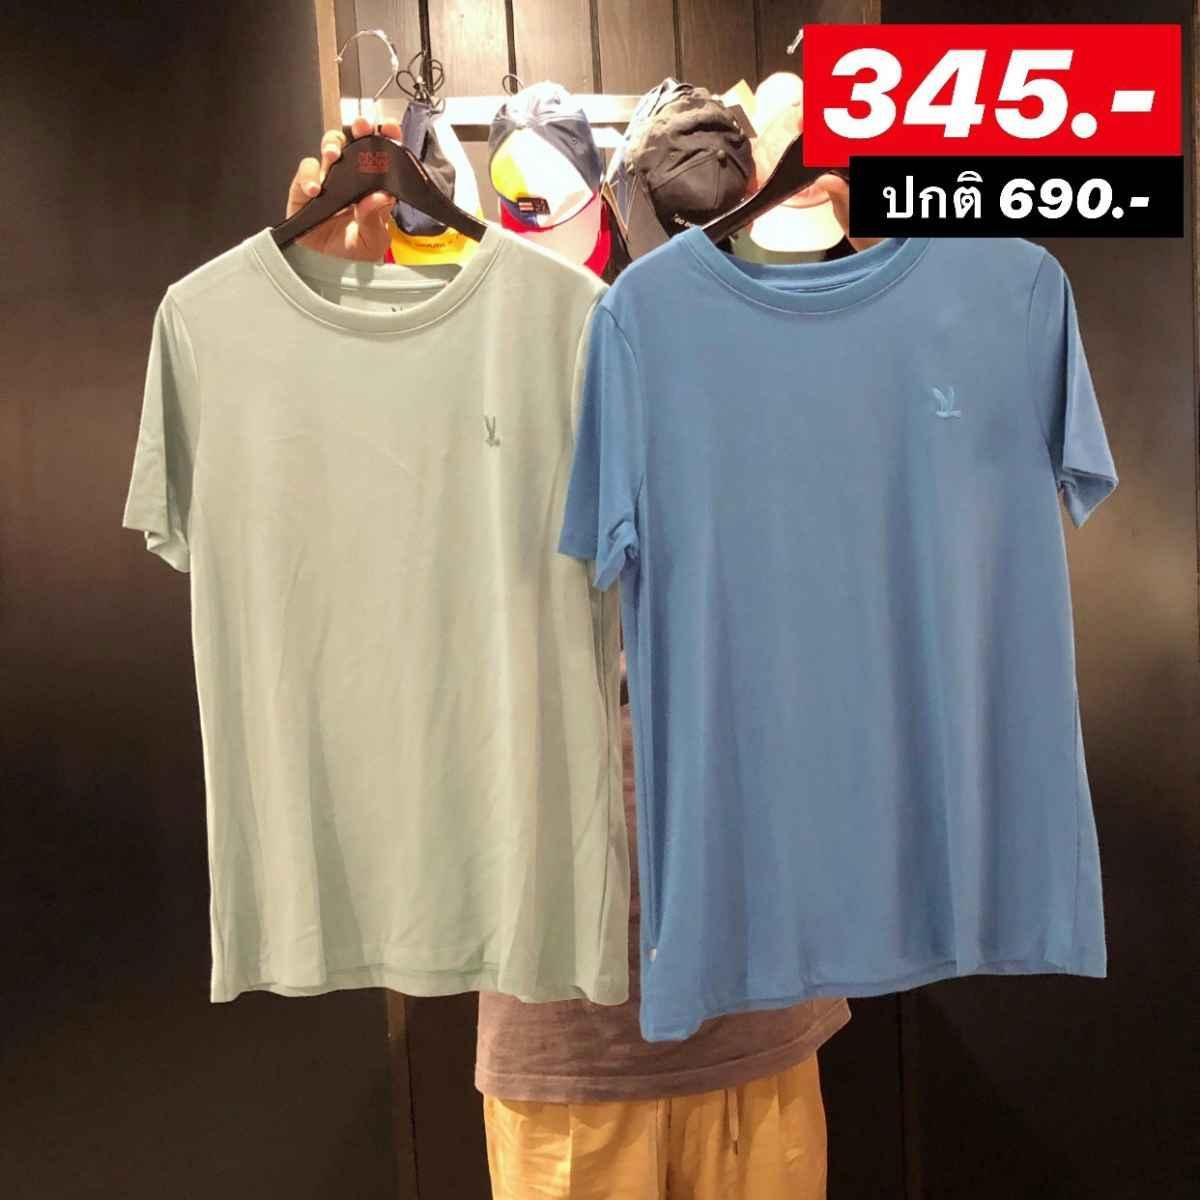Tshirt: (562, 207, 1120, 1043), (116, 193, 640, 1009)
